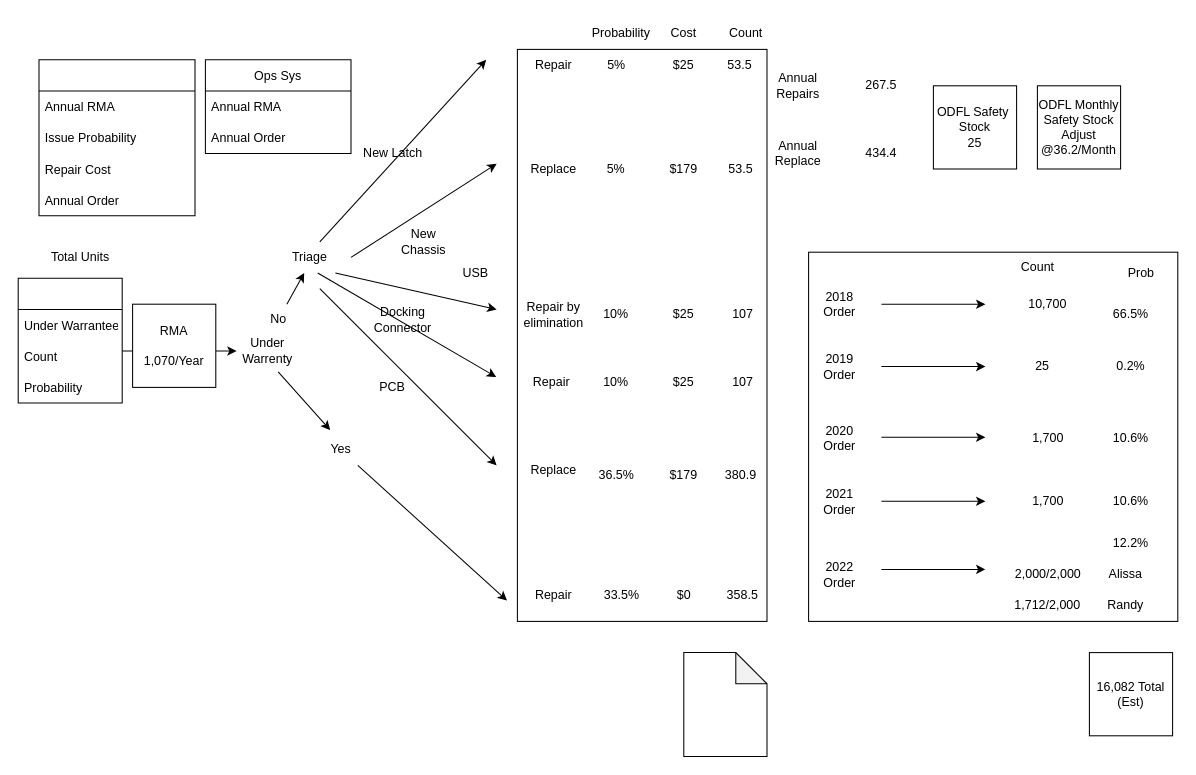
Some shapes in this 1196 by 775 pixel diagram are drawn without their labels. The box of each missing label's shape, as (x1, y1, x2, y2) in pixels:
Dock RMA: (17, 277, 122, 403)
Gamber Provide: (38, 59, 195, 216)
Monthly Repair Bill: (683, 652, 767, 757)
